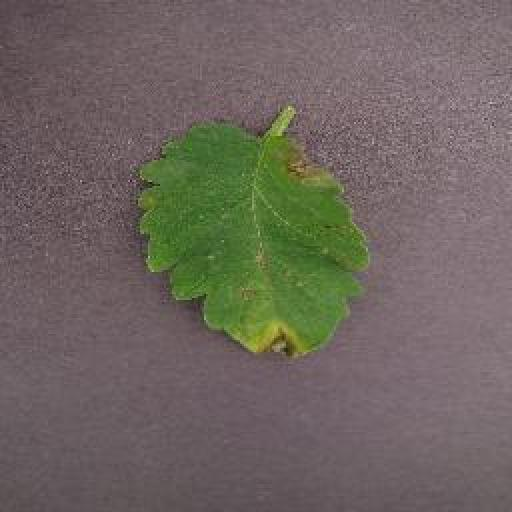Late Blight: (135, 120, 369, 364)
